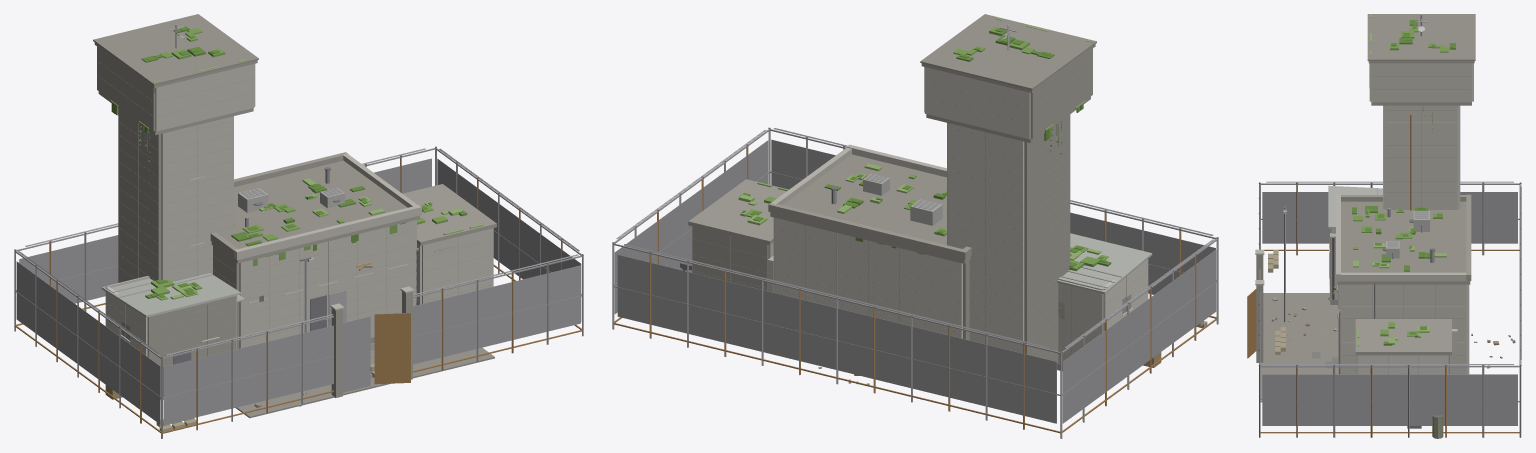
Rendered from militarypoi1.fbx.
The picture shows the model from 3 angles, left to right: view 1: azimuth 30°, elevation 25°; view 2: azimuth 150°, elevation 25°; view 3: azimuth 270°, elevation 25°; orthographic projection. The views are drawn at different scales.
Visible parts, largest first — view 1: MB_WF; view 2: MB_WF; view 3: MB_WF.
Boxes of the visible parts, x1,y1,x2,y2 form: MB_WF: [14, 14, 583, 438]; MB_WF: [612, 14, 1218, 438]; MB_WF: [1247, 14, 1521, 438].
Bounding box in the file's own units: 24.39 × 17.62 × 15.27.
